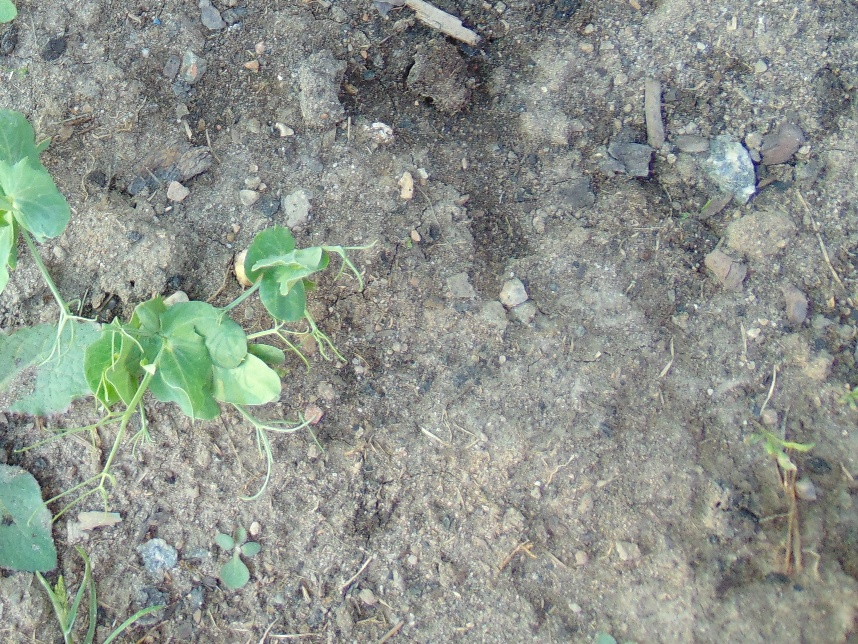crop: (86, 223, 362, 459), (65, 288, 322, 487), (1, 105, 96, 335)
weed: (1, 323, 87, 416), (1, 462, 60, 571), (214, 523, 259, 588)
